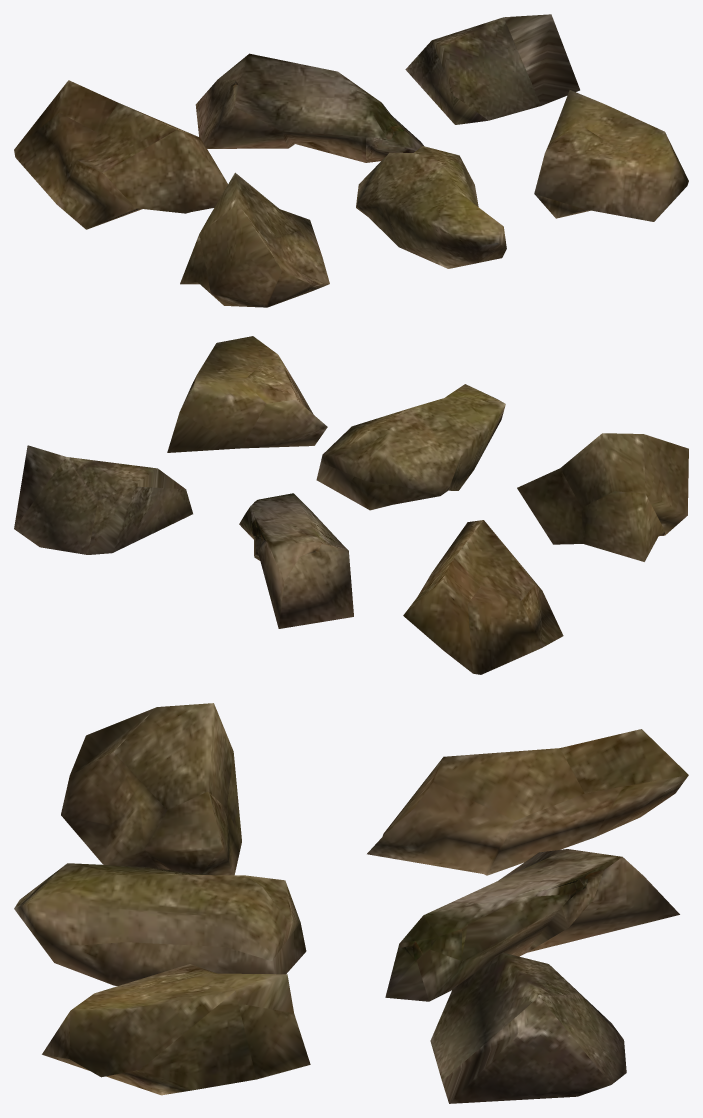
The model's file is rock_moss.glb.
3 renders of one model, top to bottom at view 1: azimuth 30°, elevation 25°; view 2: azimuth 150°, elevation 25°; view 3: azimuth 270°, elevation 25°, orthographic. The views are drawn at different scales.
Visible parts, largest first — view 1: rock_moss_set_01_rock01, rock_moss_set_01_rock02, rock_moss_set_01_rock06, rock_moss_set_01_rock03, rock_moss_set_01_rock04, rock_moss_set_01_rock05; view 2: rock_moss_set_01_rock04, rock_moss_set_01_rock05, rock_moss_set_01_rock01, rock_moss_set_01_rock03, rock_moss_set_01_rock06, rock_moss_set_01_rock02; view 3: rock_moss_set_01_rock01, rock_moss_set_01_rock05, rock_moss_set_01_rock04, rock_moss_set_01_rock06, rock_moss_set_01_rock03, rock_moss_set_01_rock02.
Part boxes in pixels (bbox=[...]): rock_moss_set_01_rock01: bbox=[14, 80, 227, 229]; rock_moss_set_01_rock02: bbox=[195, 53, 423, 162]; rock_moss_set_01_rock06: bbox=[534, 90, 688, 221]; rock_moss_set_01_rock03: bbox=[405, 14, 579, 124]; rock_moss_set_01_rock04: bbox=[180, 172, 329, 307]; rock_moss_set_01_rock05: bbox=[356, 146, 506, 268]; rock_moss_set_01_rock04: bbox=[517, 433, 688, 561]; rock_moss_set_01_rock05: bbox=[316, 384, 505, 510]; rock_moss_set_01_rock01: bbox=[403, 520, 563, 674]; rock_moss_set_01_rock03: bbox=[14, 445, 192, 554]; rock_moss_set_01_rock06: bbox=[167, 336, 327, 452]; rock_moss_set_01_rock02: bbox=[239, 493, 353, 628]; rock_moss_set_01_rock01: bbox=[367, 729, 688, 875]; rock_moss_set_01_rock05: bbox=[14, 863, 306, 985]; rock_moss_set_01_rock04: bbox=[61, 703, 241, 875]; rock_moss_set_01_rock06: bbox=[42, 964, 310, 1095]; rock_moss_set_01_rock03: bbox=[430, 952, 626, 1103]; rock_moss_set_01_rock02: bbox=[385, 849, 679, 1001].
Size of the model in its own units: 7.77 by 1.69 by 6.87.
1 material, 1 textured.
